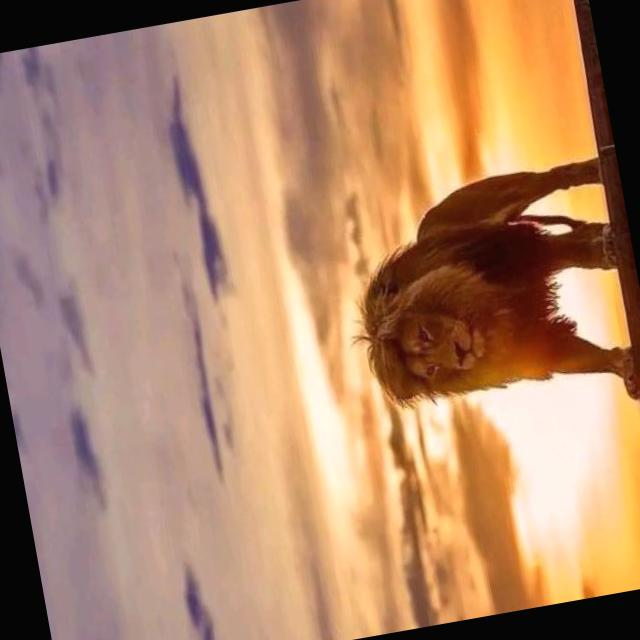lions: (165, 82, 640, 623)
